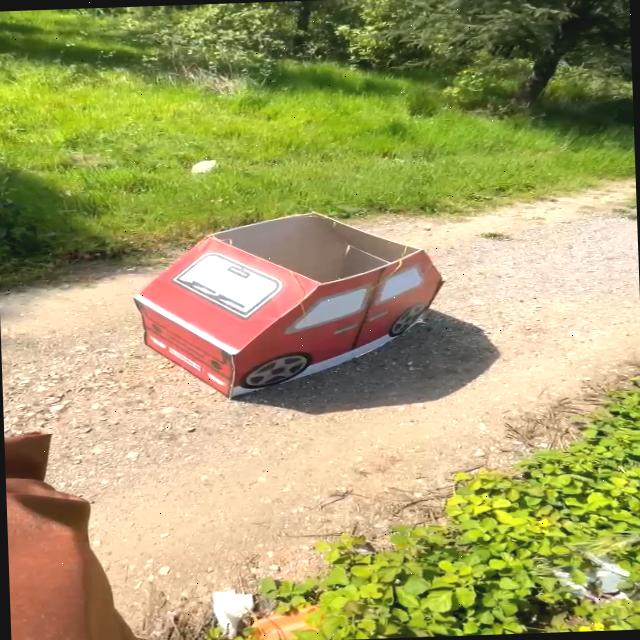red_car: (98, 198, 453, 407)
